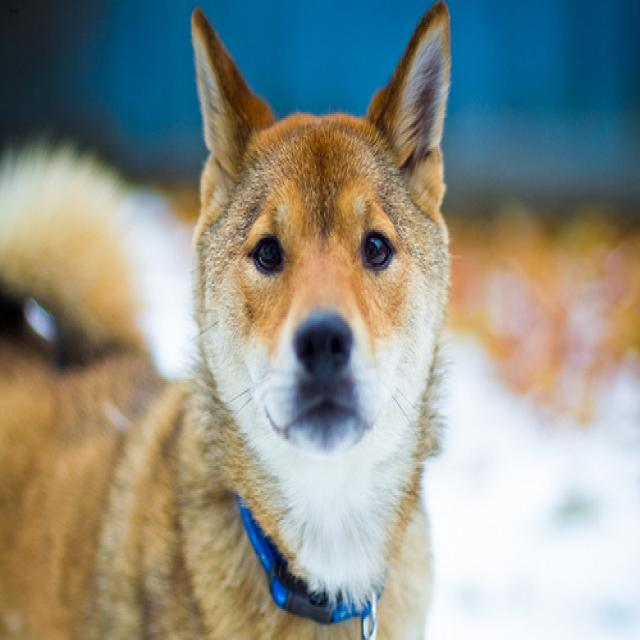dog-shiba_inu: (1, 2, 466, 636)
